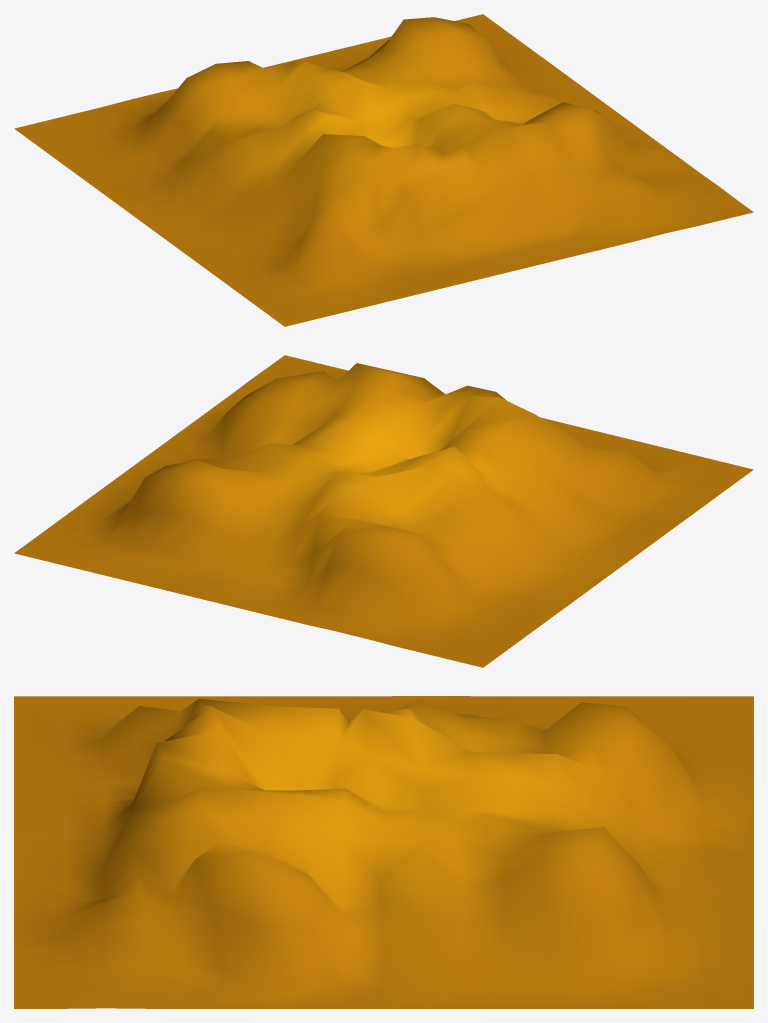
The model's file is Soil.fbx.
The picture shows the model from 3 angles, top to bottom: view 1: azimuth 30°, elevation 25°; view 2: azimuth 150°, elevation 25°; view 3: azimuth 270°, elevation 25°; orthographic projection. The views are drawn at different scales.
Parts seen in each view (by area): view 1: Plane; view 2: Plane; view 3: Plane.
Part boxes in pixels (box(x1,y1,x2,y2)): Plane: box(14, 14, 753, 326); Plane: box(14, 355, 753, 667); Plane: box(14, 696, 753, 1008).
Size of the model in its own units: 2 by 0.3298 by 2.
Materials: 1 (1 with a texture image).
